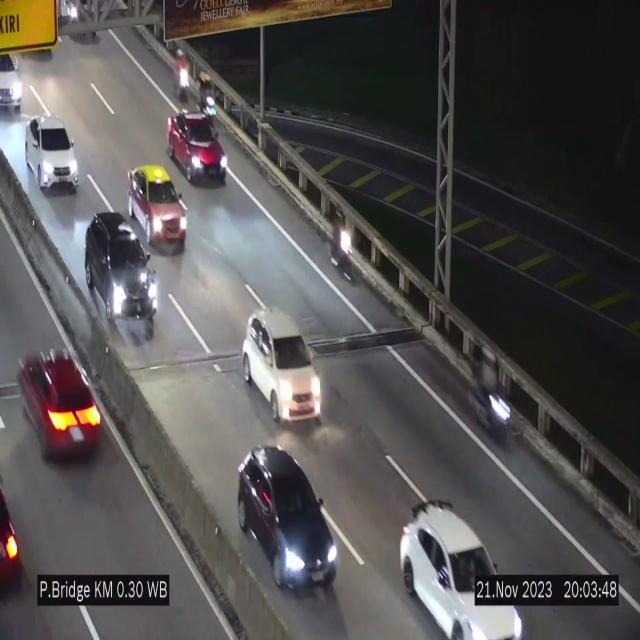Car: (401, 500, 525, 640), (238, 445, 338, 587), (18, 316, 104, 471), (83, 209, 159, 327), (242, 310, 322, 422), (128, 164, 186, 249), (165, 110, 229, 187), (27, 115, 79, 191), (0, 33, 31, 120)
Motorcycle: (481, 350, 509, 446), (328, 200, 354, 284), (170, 45, 190, 103), (198, 70, 216, 126)
